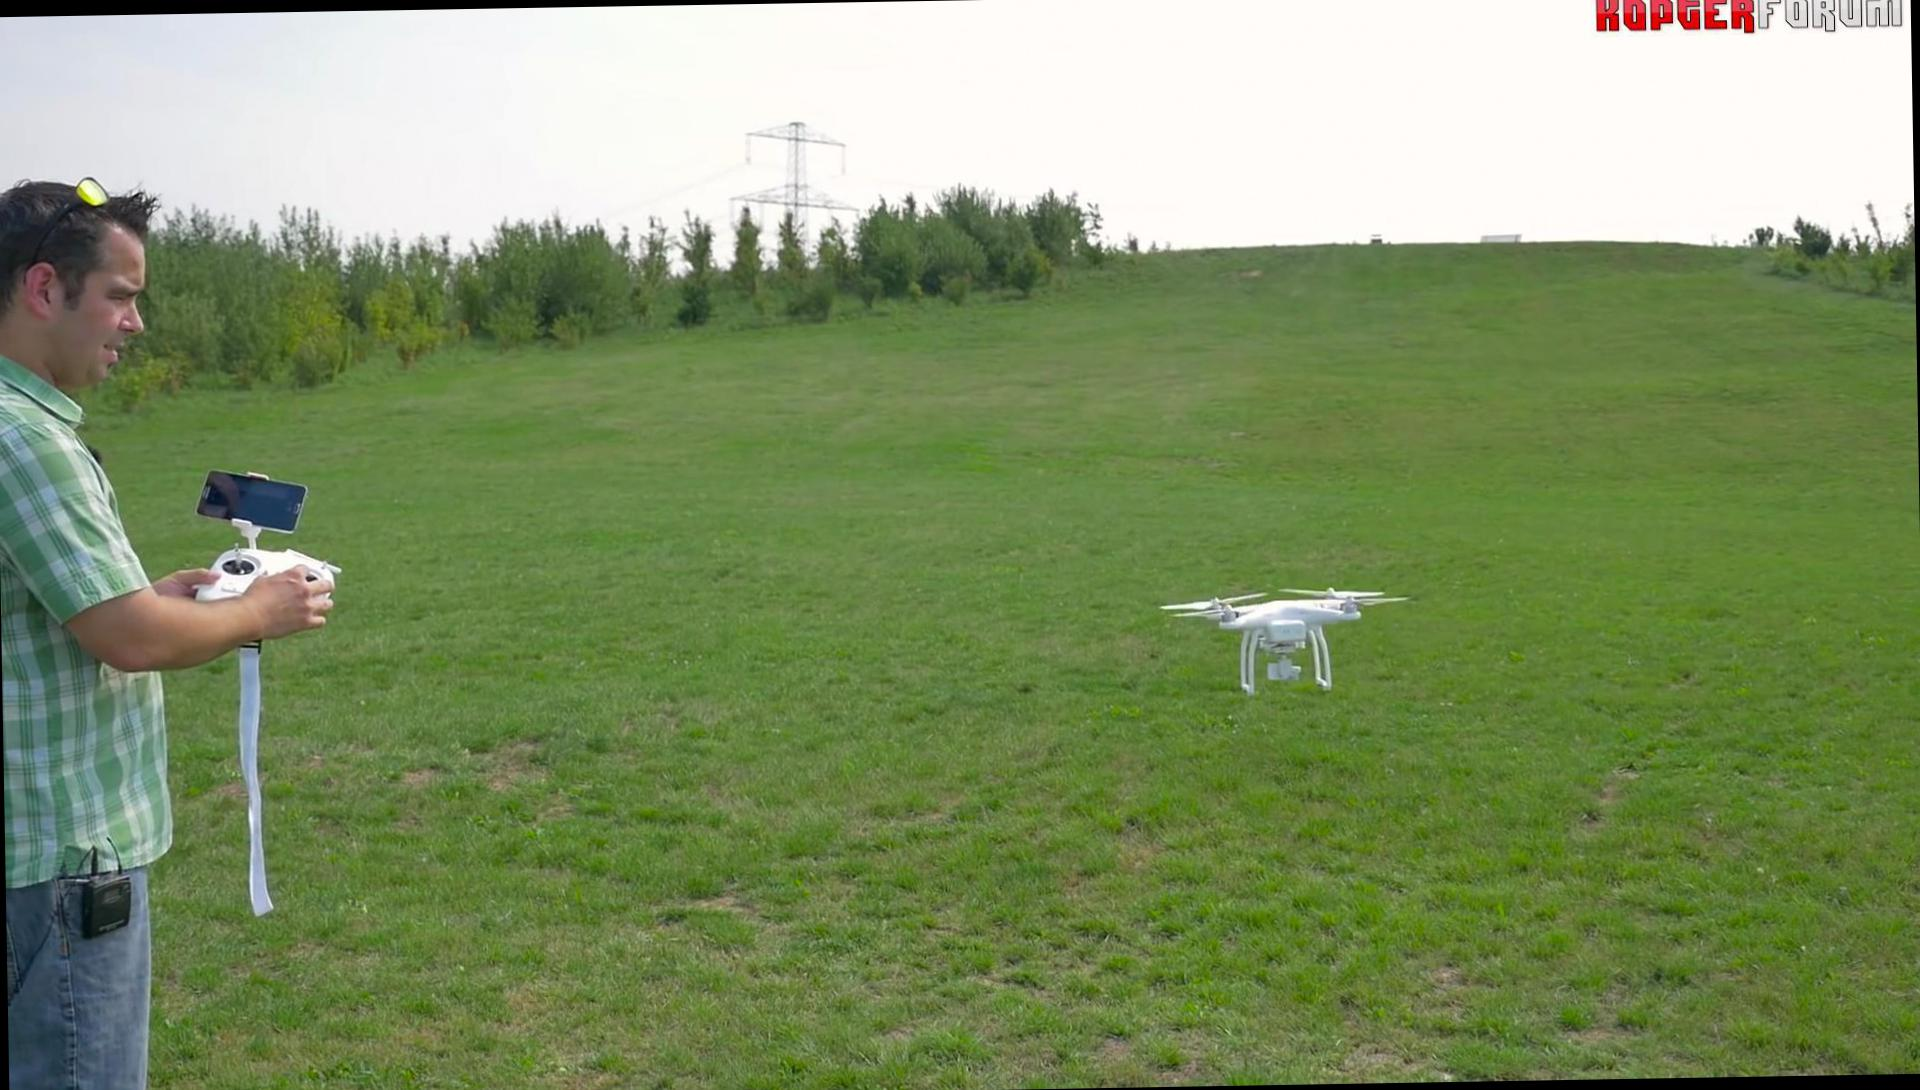drone: (1156, 581, 1415, 699)
